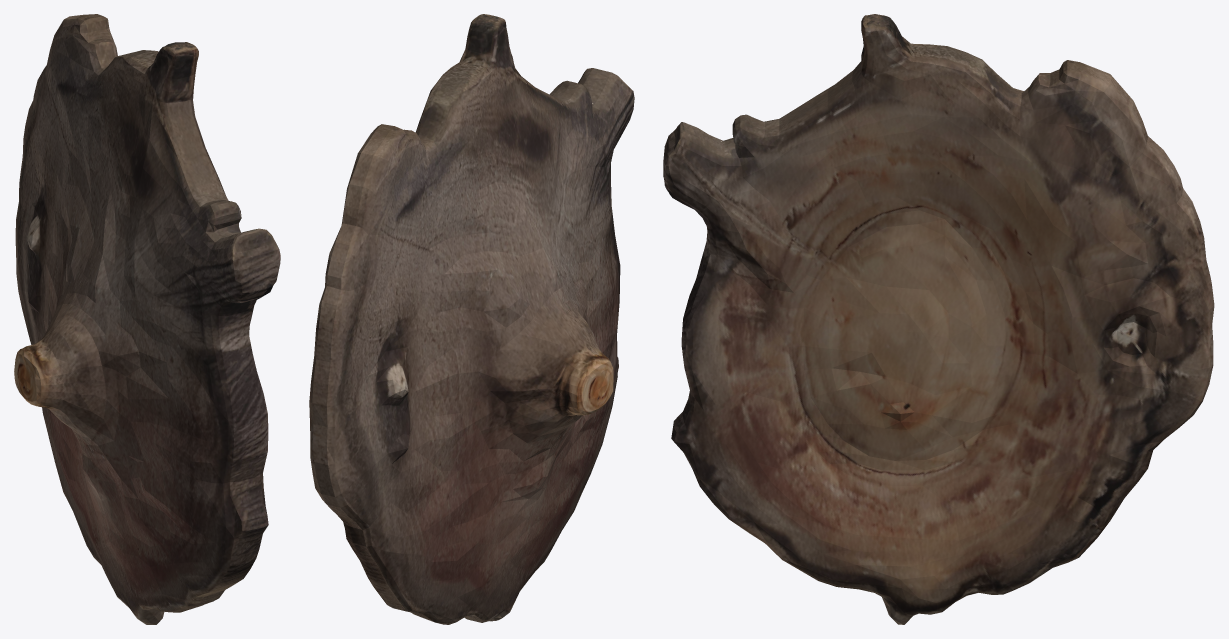
File: buried_wood_001.glb
3 renders of one model, left to right at view 1: azimuth 30°, elevation 25°; view 2: azimuth 150°, elevation 25°; view 3: azimuth 270°, elevation 25°, orthographic. The views are drawn at different scales.
Visible parts, largest first — view 1: tripo_node_d3b61fe3-4a91-4480-8d13-bf2cf677fdb8; view 2: tripo_node_d3b61fe3-4a91-4480-8d13-bf2cf677fdb8; view 3: tripo_node_d3b61fe3-4a91-4480-8d13-bf2cf677fdb8.
Boxes of the visible parts, <box> form: tripo_node_d3b61fe3-4a91-4480-8d13-bf2cf677fdb8: <box>14,14,280,624</box>; tripo_node_d3b61fe3-4a91-4480-8d13-bf2cf677fdb8: <box>309,14,634,624</box>; tripo_node_d3b61fe3-4a91-4480-8d13-bf2cf677fdb8: <box>663,14,1214,624</box>.
Size of the model in its own units: 0.2654 by 0.9435 by 0.769.
1 material, 1 textured.
